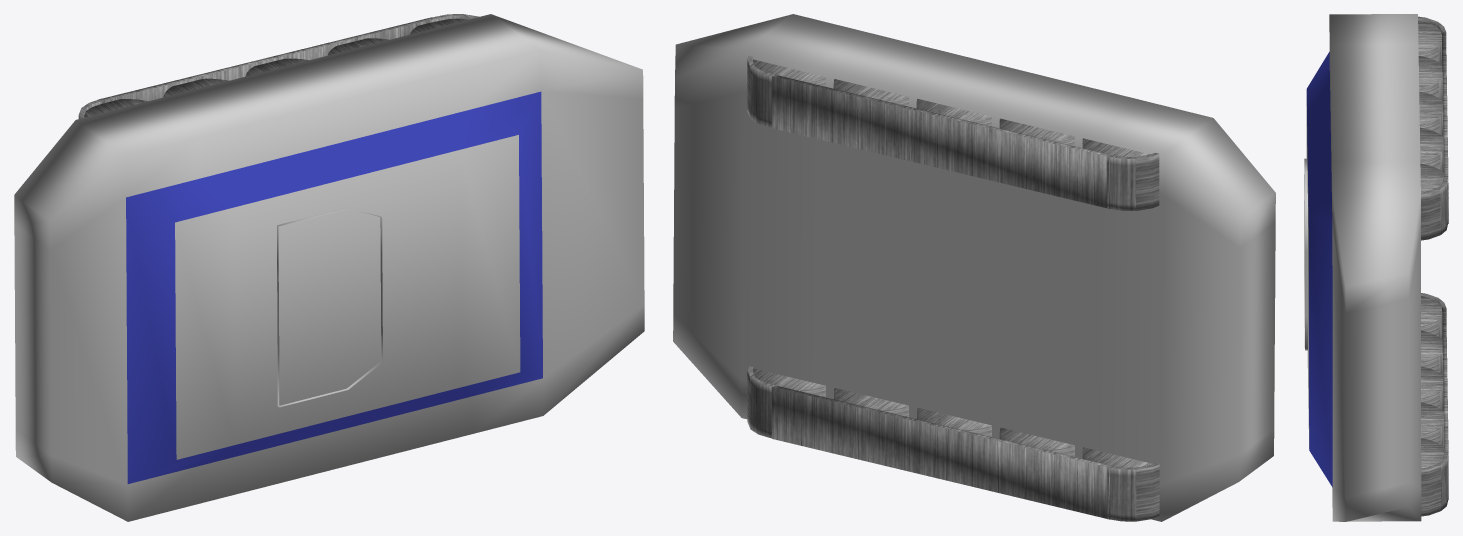
File: tank-body.fbx
The picture shows the model from 3 angles, left to right: view 1: azimuth 30°, elevation 25°; view 2: azimuth 150°, elevation 25°; view 3: azimuth 270°, elevation 25°; orthographic projection. The views are drawn at different scales.
Parts seen in each view (by area): view 1: Cube, Plane.001, Cube.002; view 2: Cube, Plane.001, Cube.002; view 3: Cube, Cube.002, Plane.001.
Boxes of the visible parts, x1,y1,x2,y2 form: Cube: (14, 14, 644, 521); Plane.001: (78, 14, 479, 118); Cube.002: (84, 18, 467, 117); Cube: (673, 14, 1275, 521); Plane.001: (747, 55, 1159, 521); Cube.002: (752, 59, 1152, 467); Cube: (1304, 14, 1421, 521); Cube.002: (1418, 21, 1444, 468); Plane.001: (1418, 16, 1448, 516).
Bounding box in the file's own units: 8.62 × 5.1 × 2.02.
